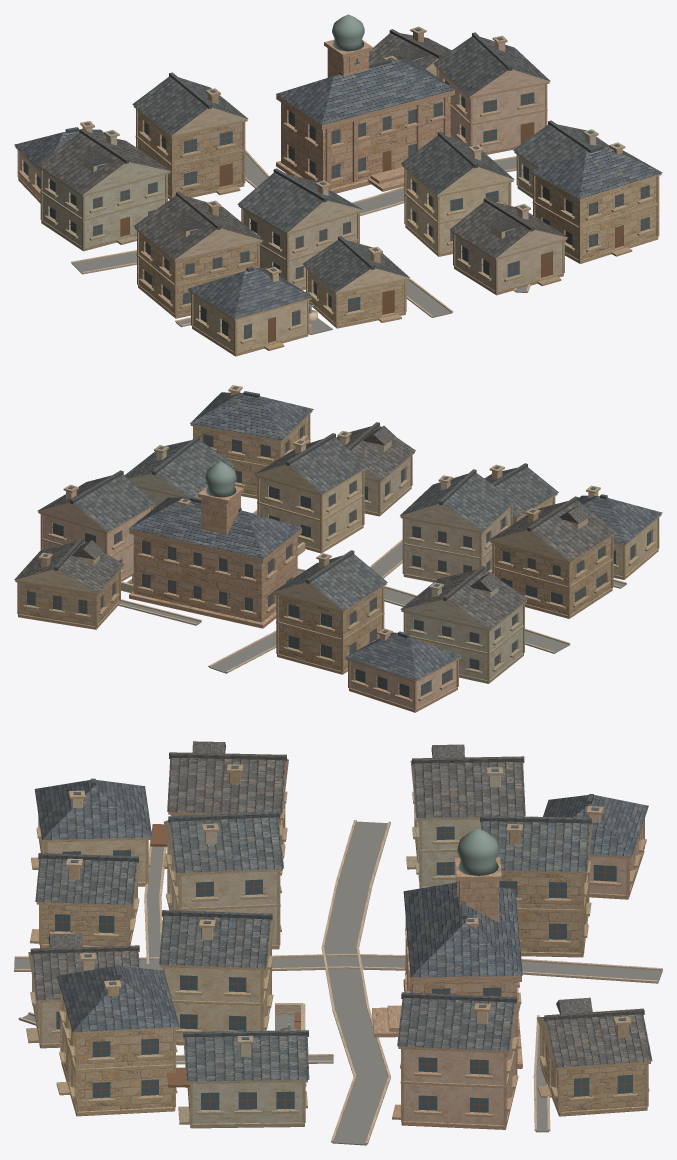
The model's file is city_east_0.gltf.
3 renders of one model, top to bottom at view 1: azimuth 30°, elevation 25°; view 2: azimuth 150°, elevation 25°; view 3: azimuth 270°, elevation 25°, orthographic. The views are drawn at different scales.
Parts seen in each view (by area): view 1: city_east_0; view 2: city_east_0; view 3: city_east_0.
Boxes of the visible parts, <box> form: city_east_0: <box>14,14,662,356</box>; city_east_0: <box>14,385,662,712</box>; city_east_0: <box>14,741,662,1145</box>.
Size of the model in its own units: 1 by 0.2761 by 0.8483.
5 materials, 1 textured.
